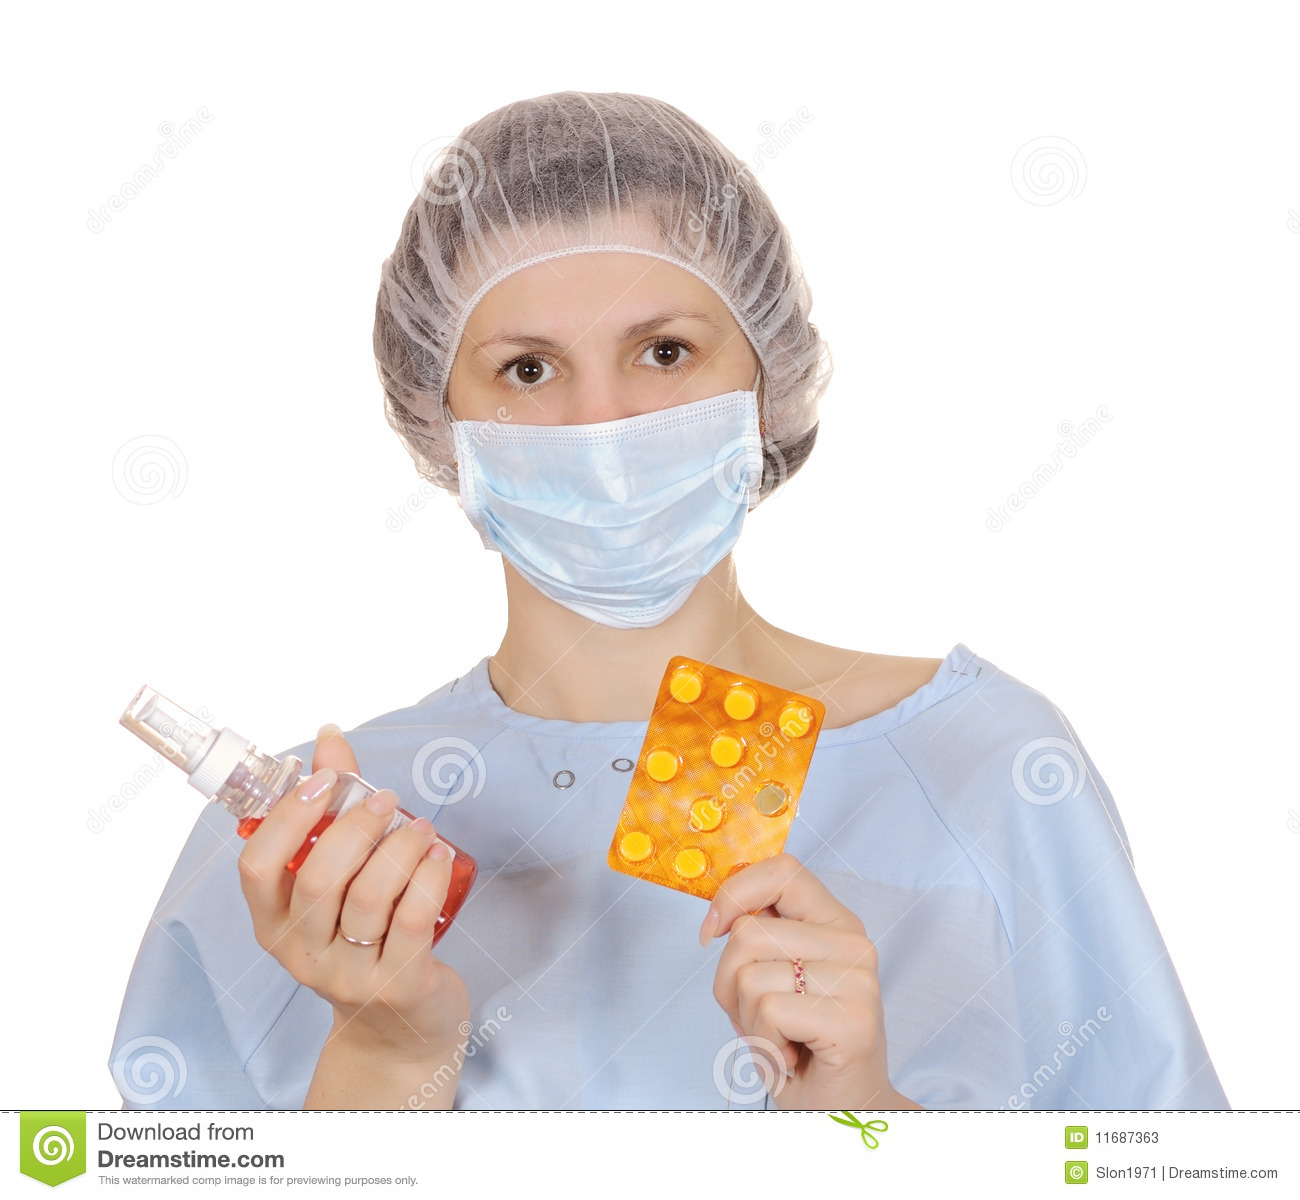mask: (454, 409, 756, 640)
